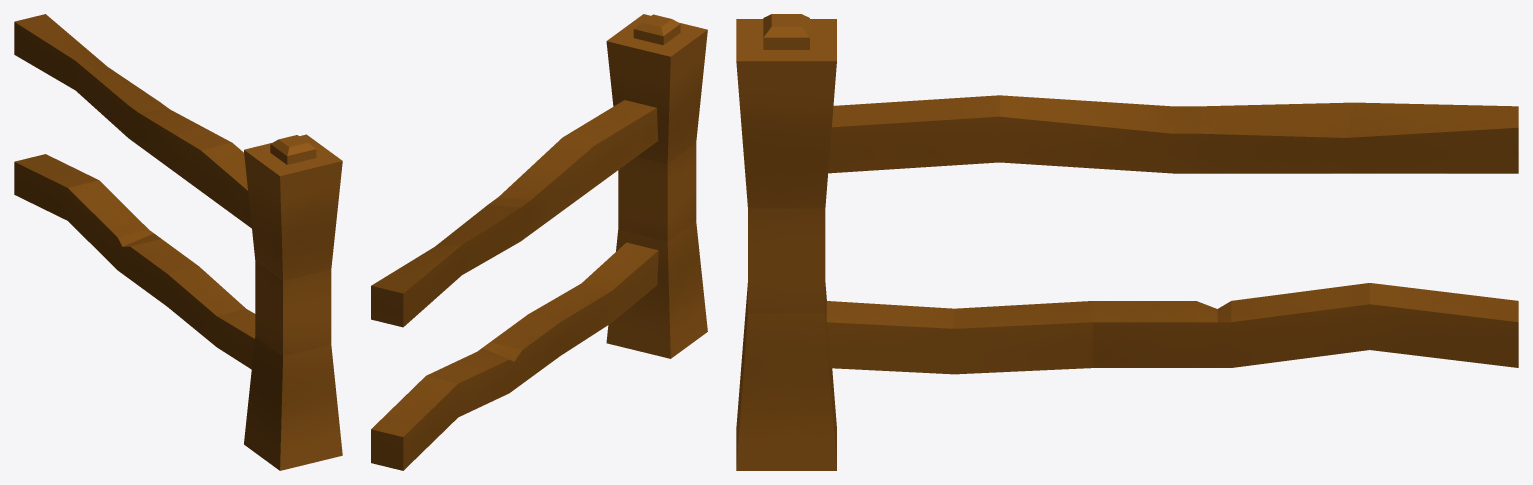
The model's file is fence left side.fbx.
The picture shows the model from 3 angles, left to right: view 1: azimuth 30°, elevation 25°; view 2: azimuth 150°, elevation 25°; view 3: azimuth 270°, elevation 25°; orthographic projection. The views are drawn at different scales.
Visible parts, largest first — view 1: Fence_Left Side EXP; view 2: Fence_Left Side EXP; view 3: Fence_Left Side EXP.
Part boxes in pixels (box(x1,y1,x2,y2)): Fence_Left Side EXP: box(14, 14, 342, 470); Fence_Left Side EXP: box(371, 14, 707, 470); Fence_Left Side EXP: box(736, 14, 1518, 470).
Bounding box in the file's own units: 22.28 × 105 × 173.
1 material, 1 textured.
